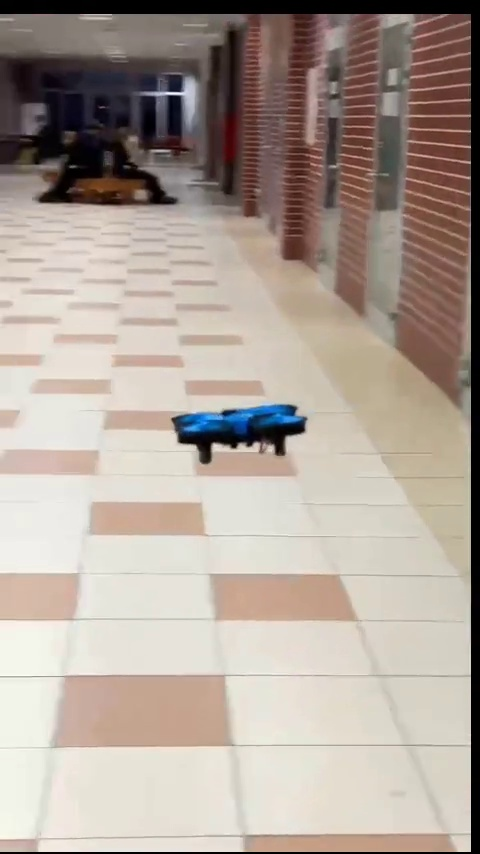drone: (166, 408, 302, 464)
